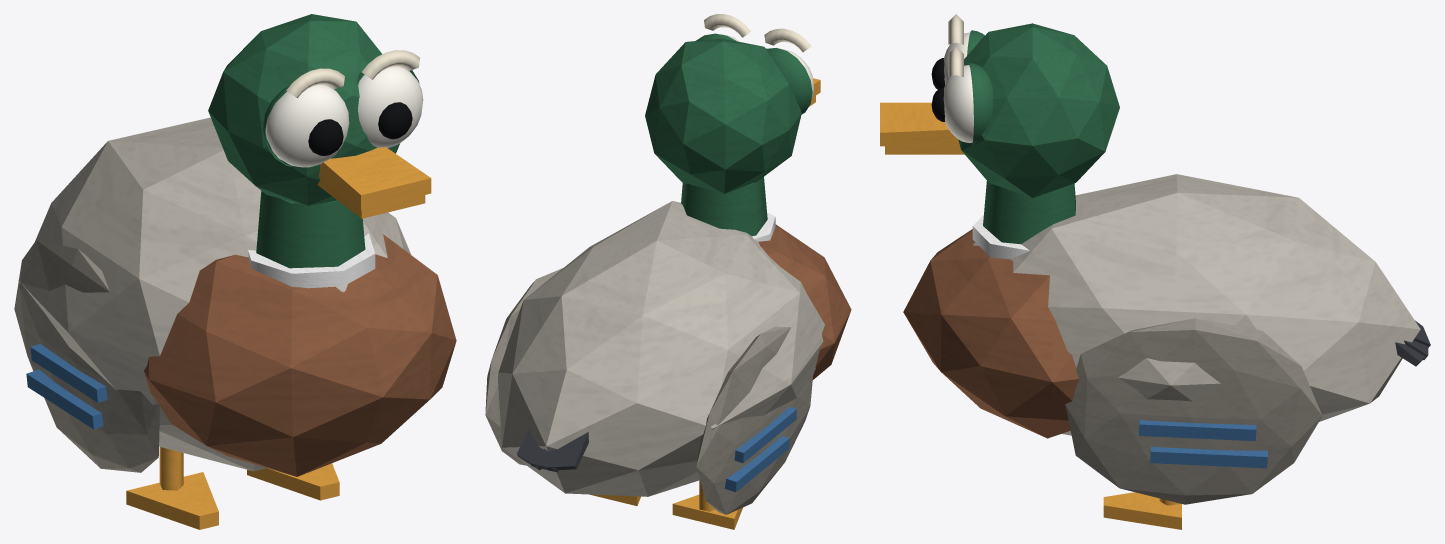
Rendered from duck.glb.
The picture shows the model from 3 angles, left to right: view 1: azimuth 30°, elevation 25°; view 2: azimuth 150°, elevation 25°; view 3: azimuth 270°, elevation 25°; orthographic projection. The views are drawn at different scales.
Parts seen in each view (by area): view 1: body, head, wingR, neck, footR, footL, hipR, jaw; view 2: body, head, wingR, neck, wingL, tail, footR; view 3: body, wingL, head, neck, footL, tail, jaw.
Part boxes in pixels (x1,y1,x2,y2): body: (18,117,456,476); head: (208,14,431,210); wingR: (14,240,159,472); neck: (248,191,375,288); footR: (126,472,218,529); footL: (247,463,339,500); hipR: (159,447,183,490); jaw: (317,178,425,218); body: (498,201,851,496); head: (645,14,820,193); wingR: (696,326,812,514); neck: (681,177,775,241); wingL: (485,268,562,465); tail: (517,429,588,472); footR: (672,494,742,529); body: (903,174,1420,438); wingL: (1065,318,1322,504); head: (880,14,1119,197); neck: (972,181,1075,259); footL: (1103,492,1181,529); tail: (1395,320,1430,366); jaw: (885,146,964,154).
Size of the model in its own units: 0.2618 by 0.4081 by 0.4427.
Materials: 16 (13 with a texture image).
